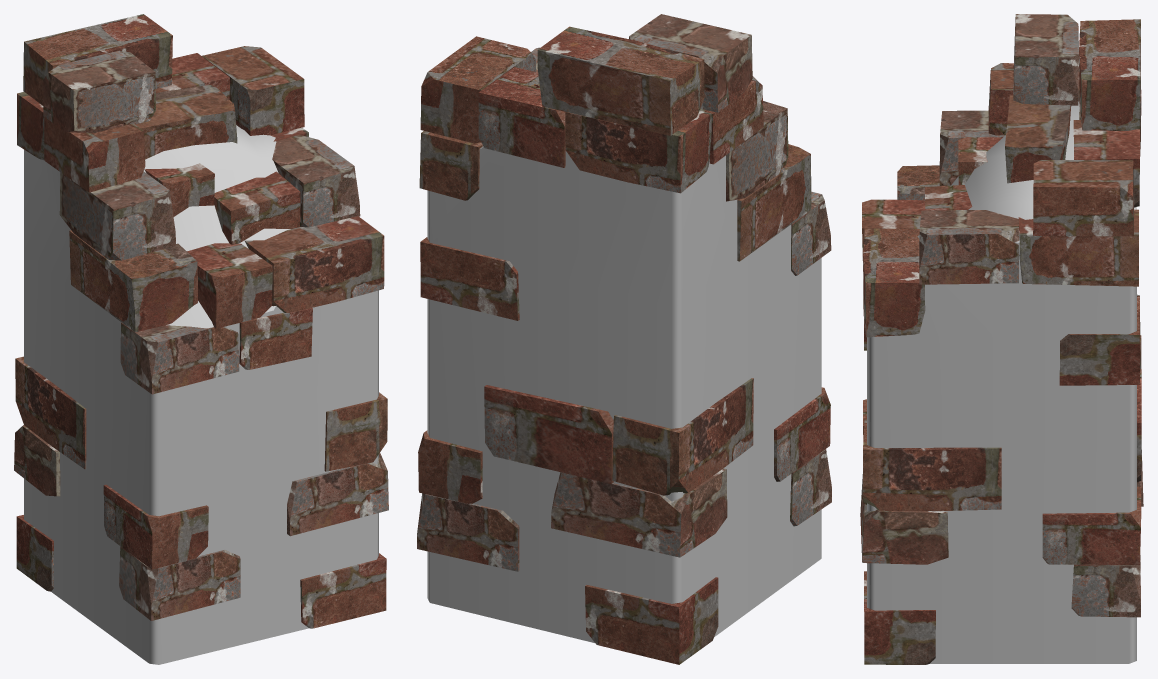
File: SM_Brick_Column_Ruined_03.fbx
The picture shows the model from 3 angles, left to right: view 1: azimuth 30°, elevation 25°; view 2: azimuth 150°, elevation 25°; view 3: azimuth 270°, elevation 25°; orthographic projection. The views are drawn at different scales.
Visible parts, largest first — view 1: SM_Brick_Column_Ruined_03_LOD0; view 2: SM_Brick_Column_Ruined_03_LOD0; view 3: SM_Brick_Column_Ruined_03_LOD0.
Part boxes in pixels (left/top/right/bottom): SM_Brick_Column_Ruined_03_LOD0: left=14, top=14, right=388, bottom=664; SM_Brick_Column_Ruined_03_LOD0: left=417, top=14, right=831, bottom=664; SM_Brick_Column_Ruined_03_LOD0: left=860, top=14, right=1143, bottom=664.
Size of what is drawn, in the model's own units: 158 by 329 by 158.
